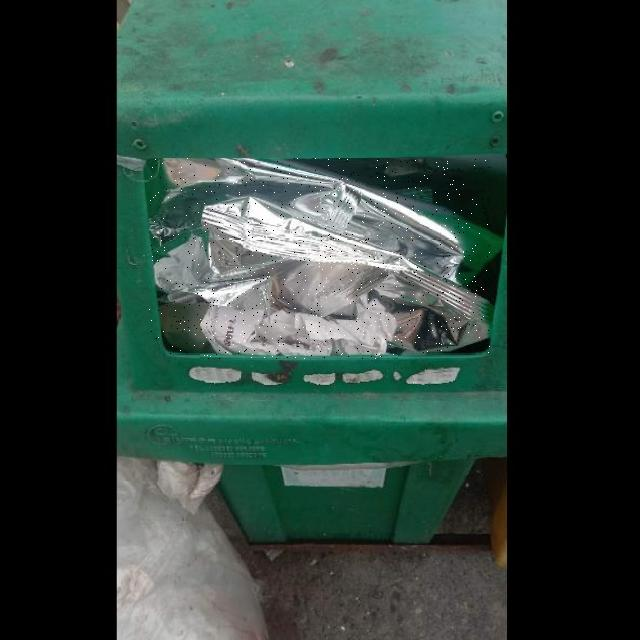paper: (200, 299, 398, 359)
wrapper: (149, 158, 490, 354)
